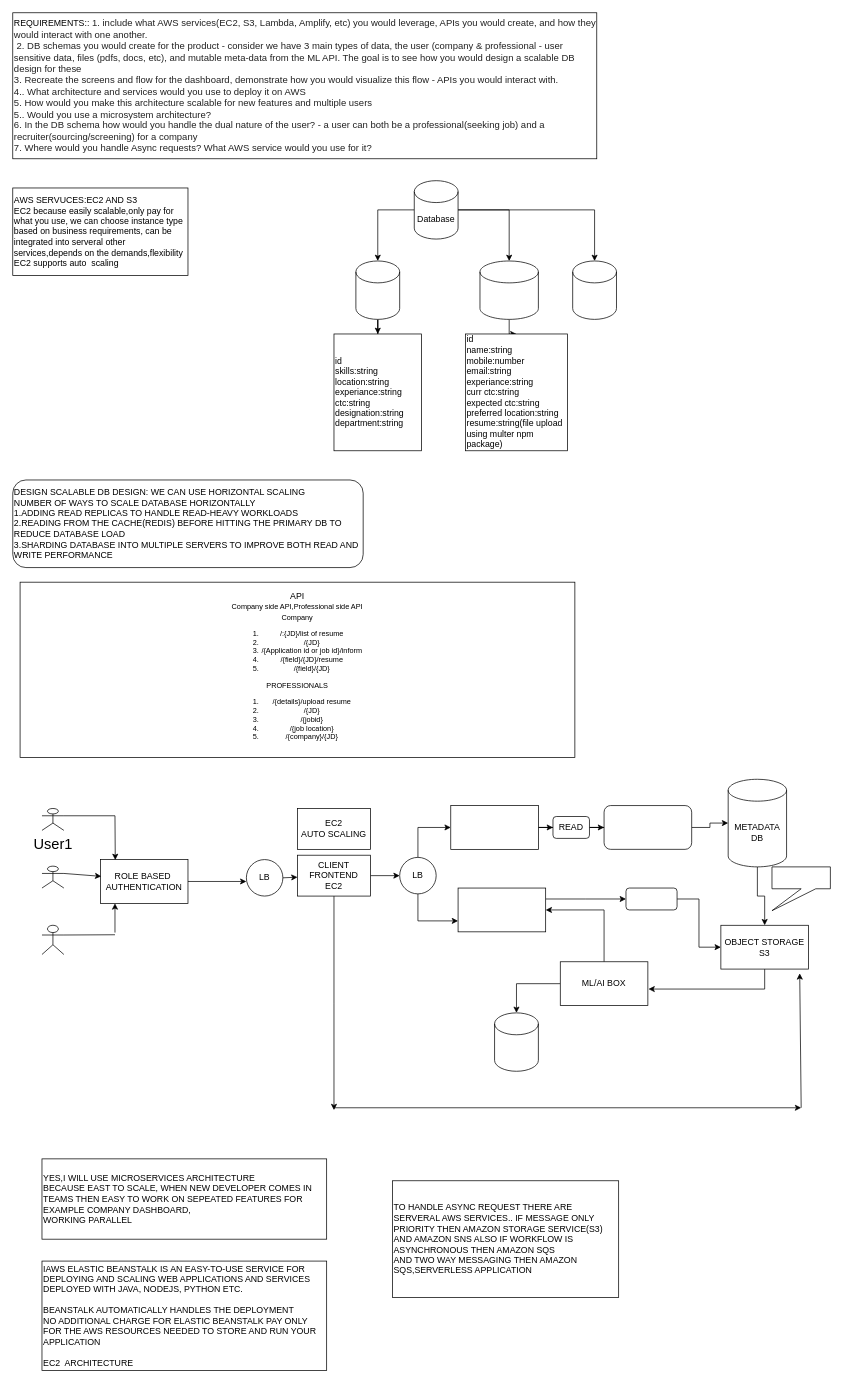
This 843x1383 diagram has some shape labels left out. The centre of each missing label's shape, as x and y in pixels:
"APP SERVER READ EC2" goes at pixel 494 827.
"APP SERVER WRITE EC2" goes at pixel 501 909.
"CACHE(REDIS)" goes at pixel 647 827.
"company" goes at pixel 377 289.
"FILE PATH" goes at pixel 800 888.
"meta data(ML API)" goes at pixel 594 289.
"professionals" goes at pixel 508 289.
"UPLOAD" goes at pixel 651 898.
"user2" goes at pixel 52 876.
"user3" goes at pixel 52 939.
